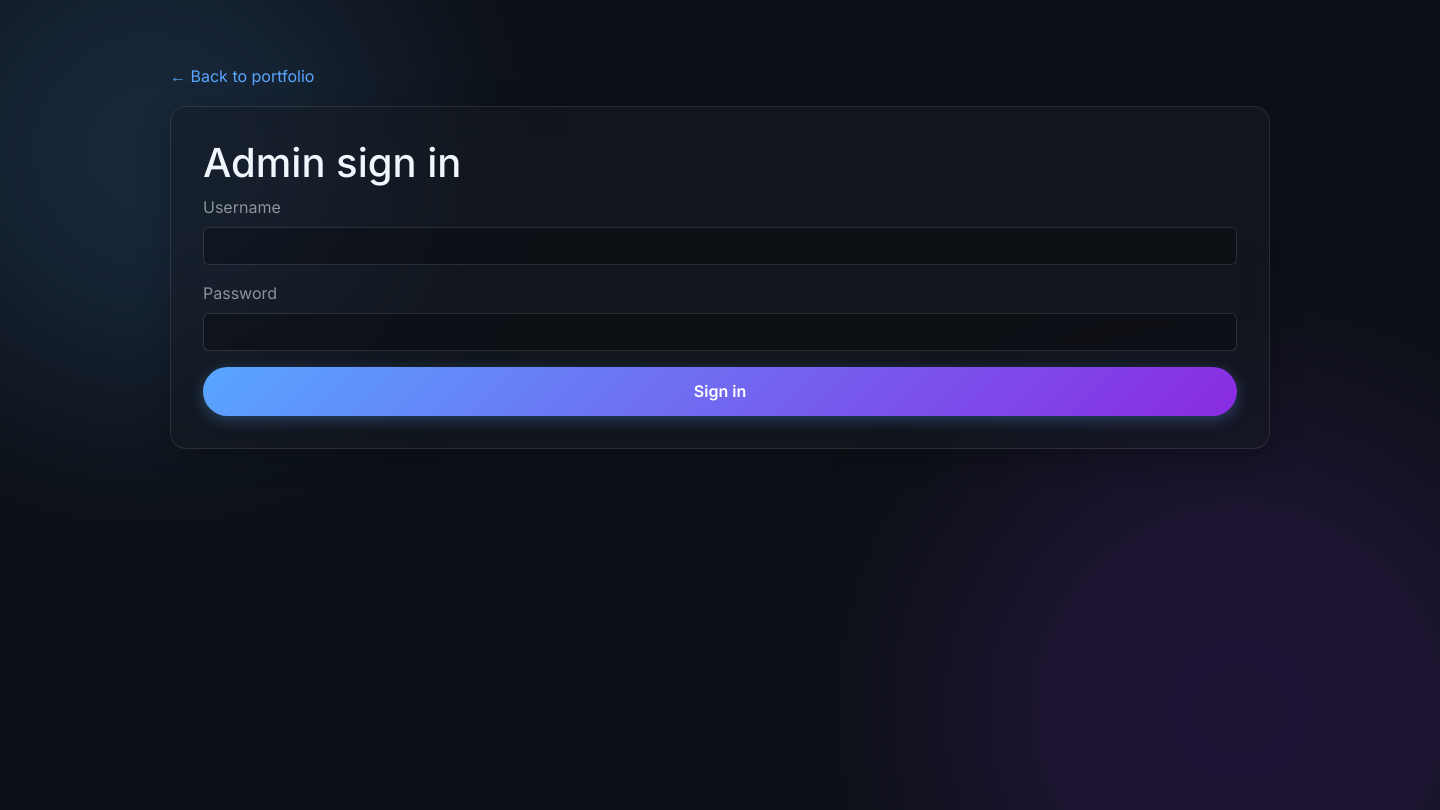
Test: admin login › stores the token on success and opens the dashboard; sign out clears it
Type "admin" into the field labelled "Username" at (720, 246), box [203,227,1237,265]
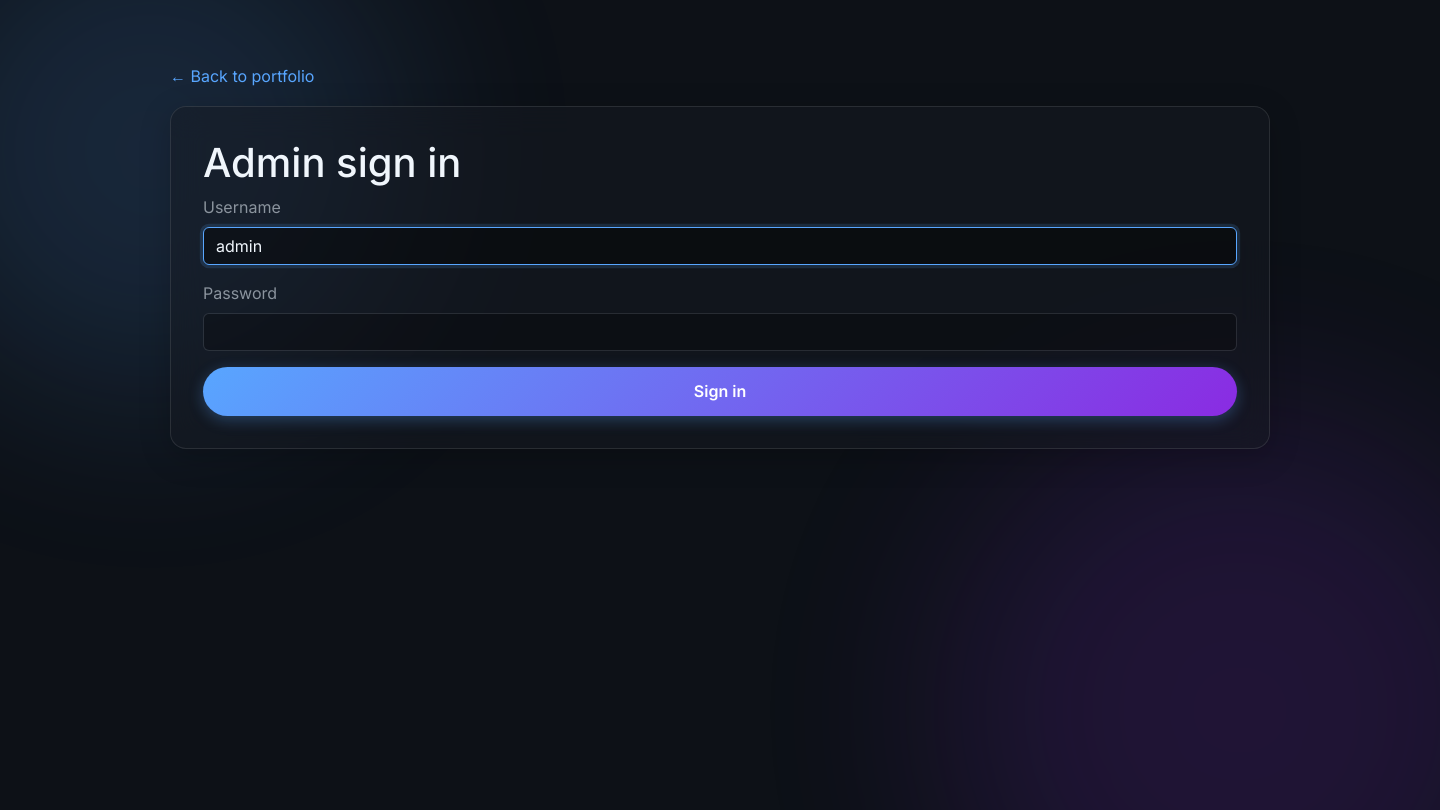
Type "secret" into the password field labelled "Password" at (720, 332), box [203,313,1237,351]
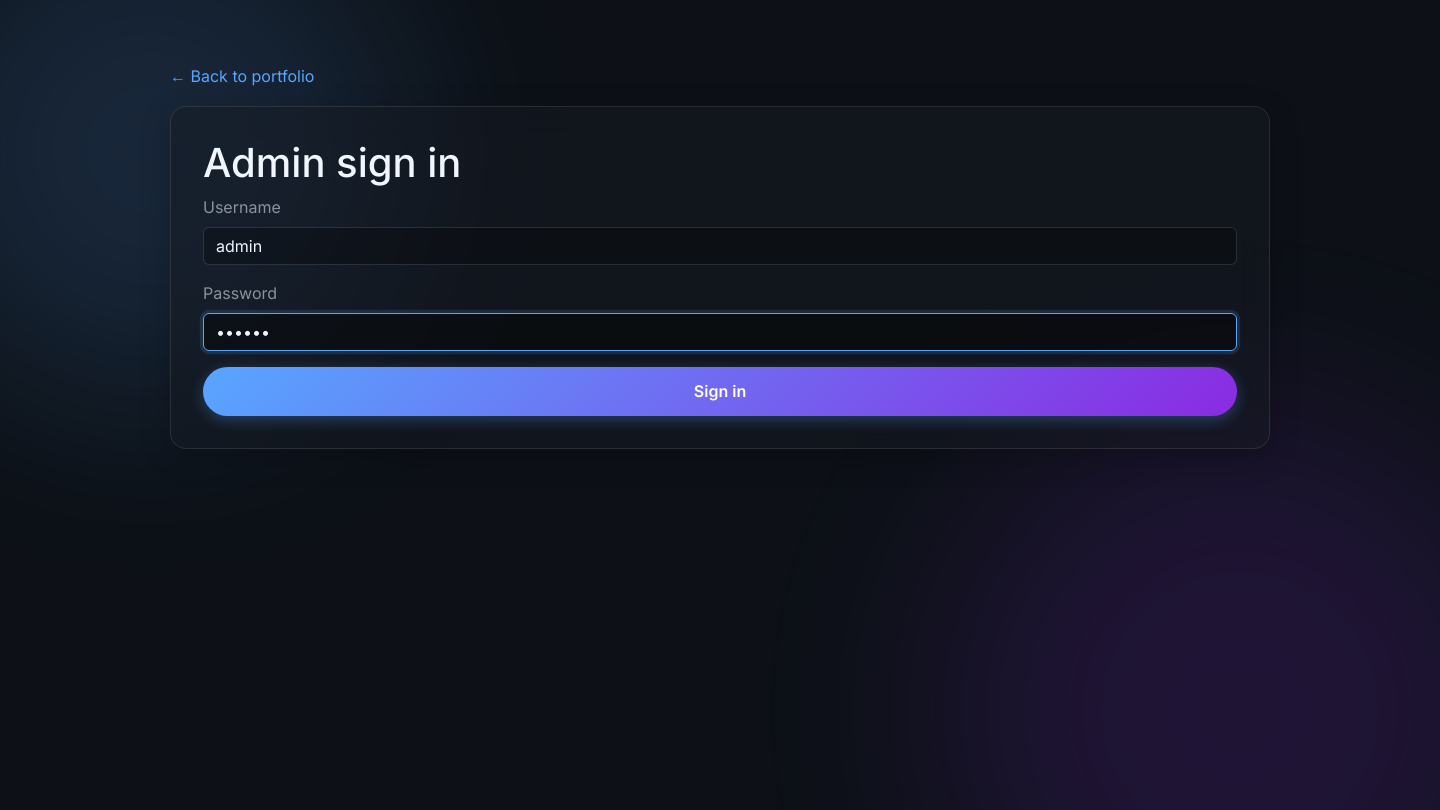
Click the button "Sign in" at (720, 391), box [203,367,1237,416]
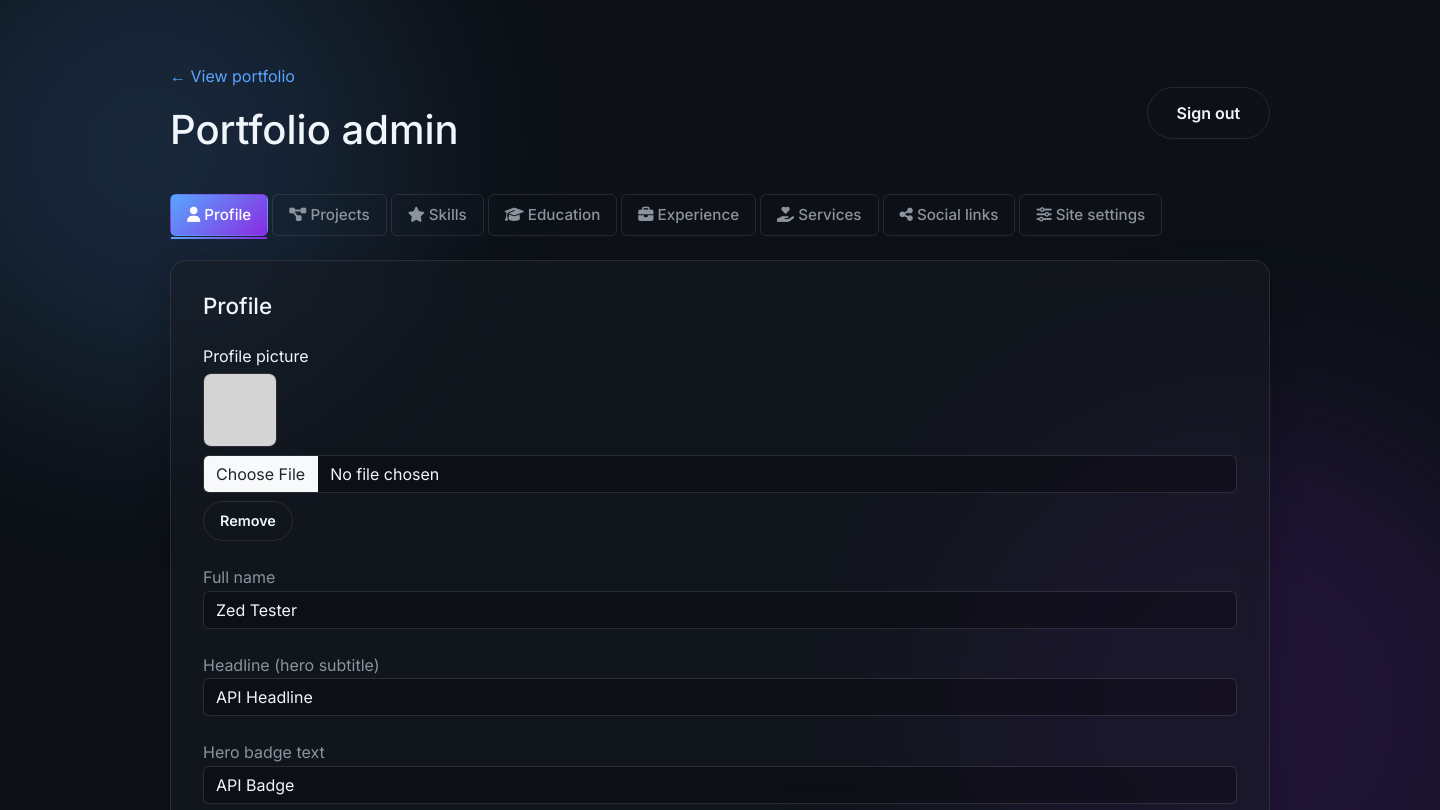
Check: the heading "Portfolio admin" is shown, box [170,106,459,154]
Click the button "Sign out" at (1208, 113), box [1147,87,1270,139]
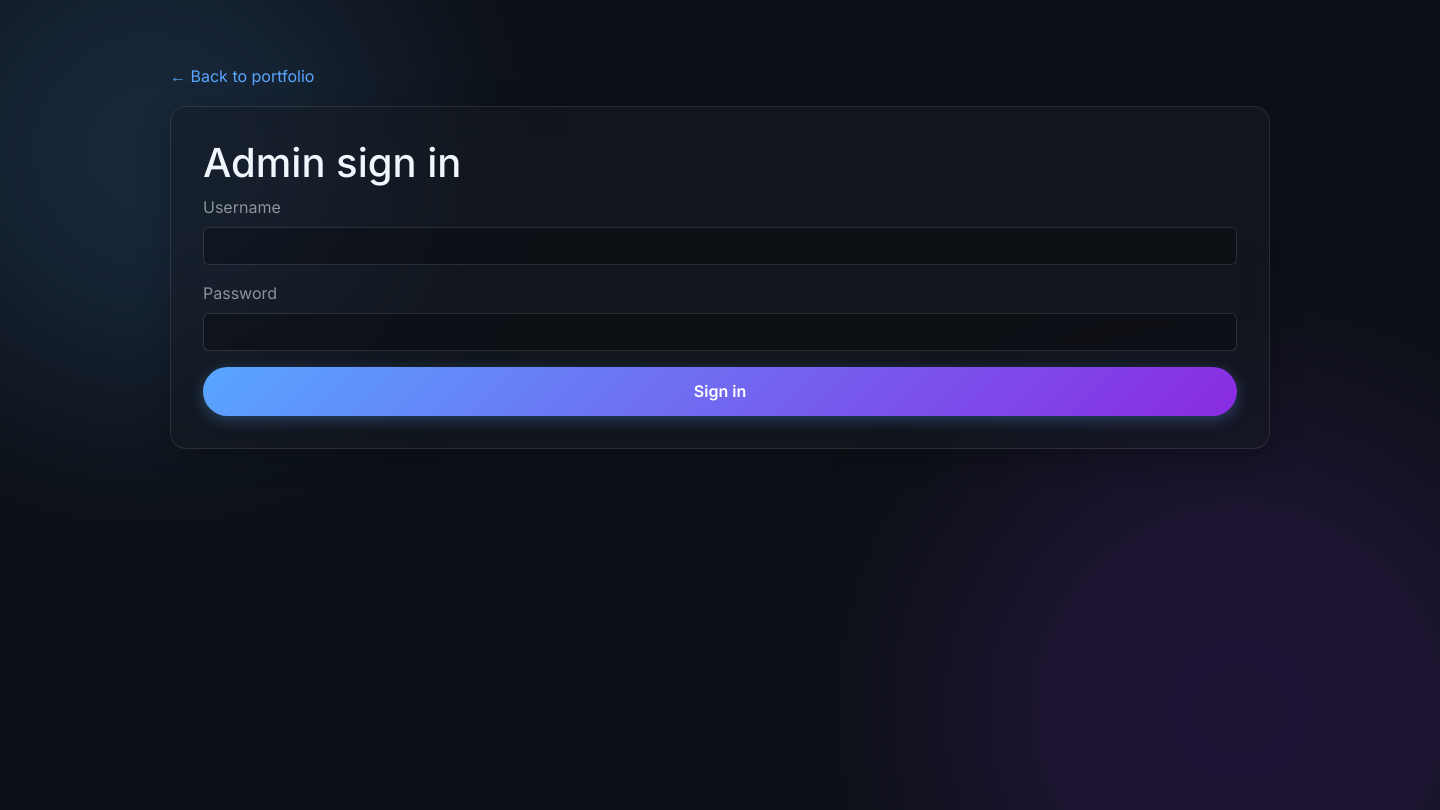
Check: the heading "Admin sign in" is shown, box [203,138,461,187]
